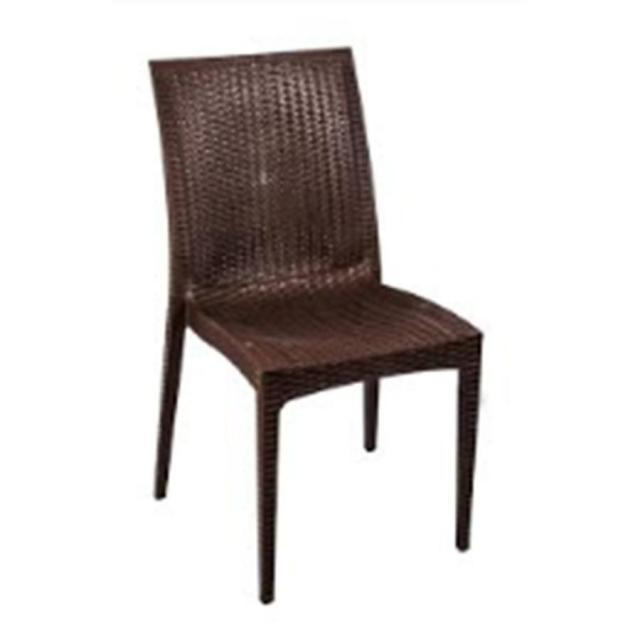Chair: (148, 43, 478, 605)
